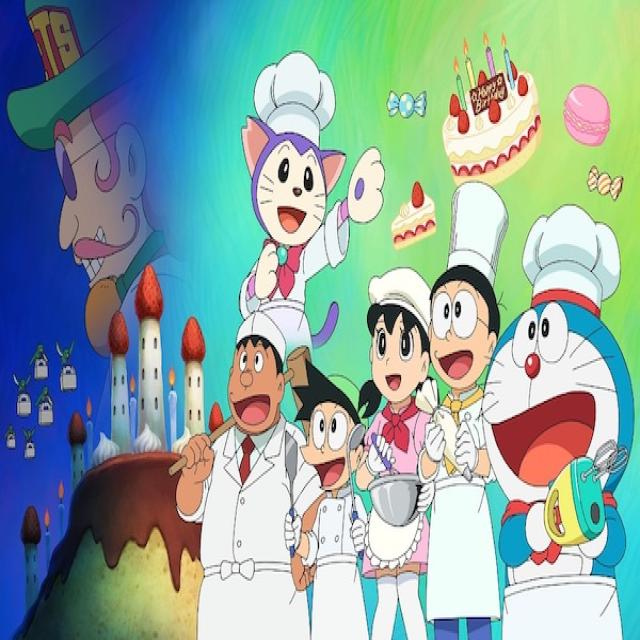doraemon: (469, 277, 635, 565)
jaian: (210, 307, 299, 460)
nobita: (422, 251, 506, 422)
shizuka: (352, 284, 437, 460)
suneo: (290, 351, 370, 516)
